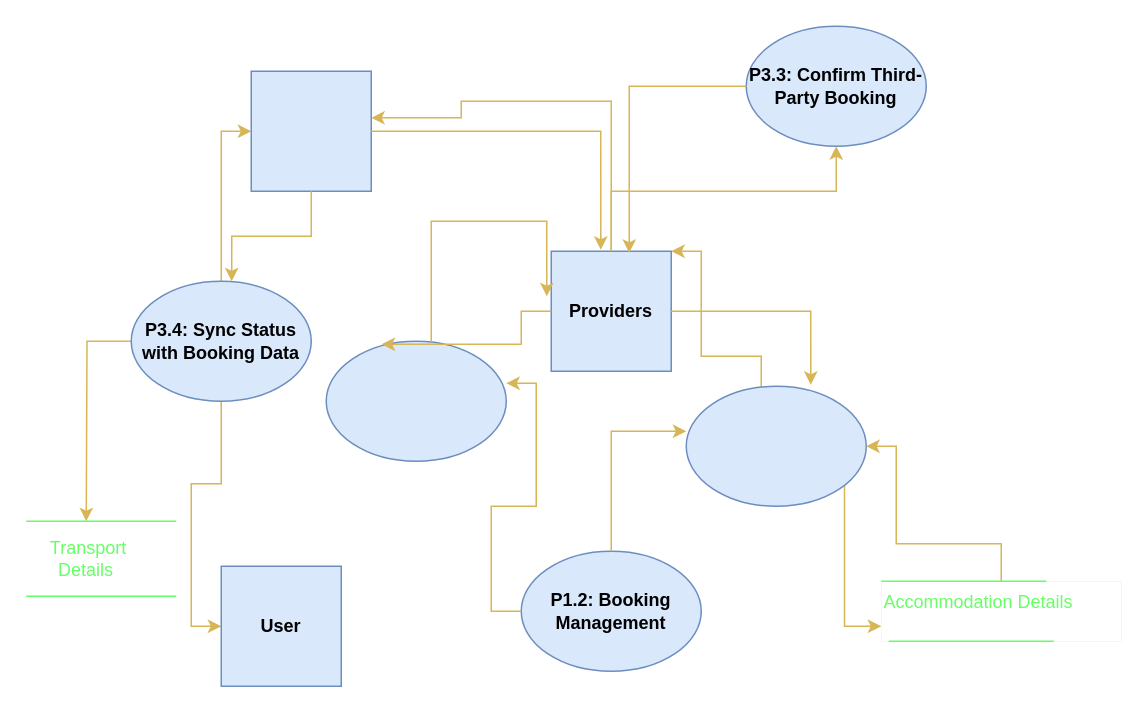
The diagram is 1148 pixels wide and 713 high, and some of its shapes have lost their labels. Each missing label, with the centre of its shape:
P3.1: Query Accommodation Provider: the point at 775,445
P3.2: Query Transport Provider: the point at 415,400
System: the point at 310,130
